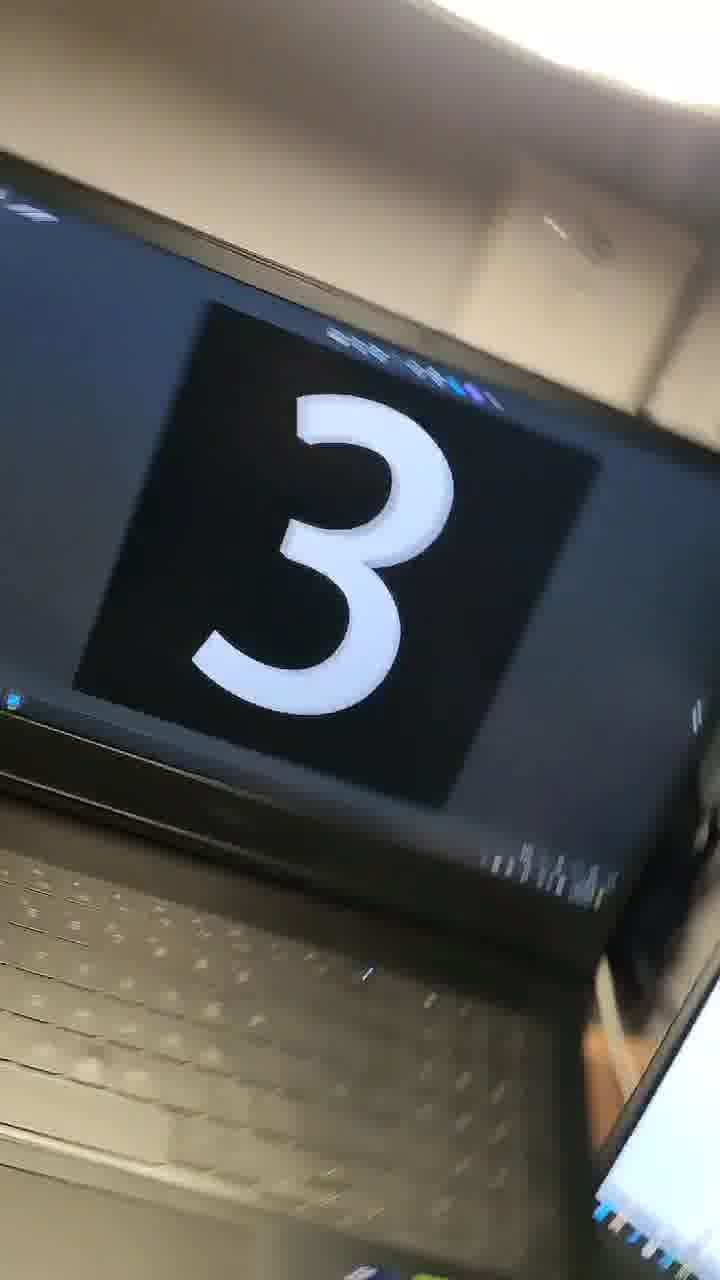three: (154, 371, 452, 749)
